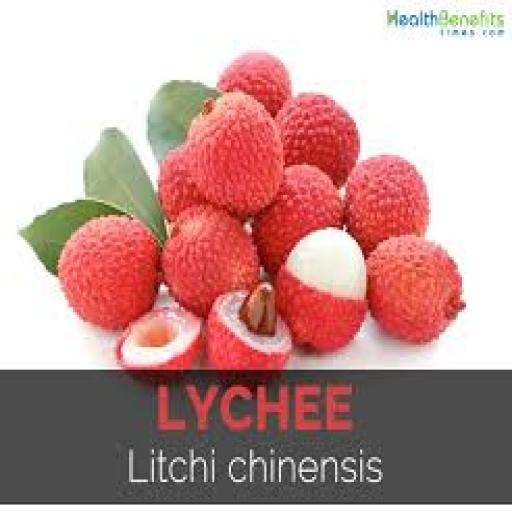lychee: (188, 93, 283, 217), (59, 215, 160, 329), (275, 228, 366, 352), (163, 205, 260, 317), (369, 235, 464, 344), (254, 165, 343, 274), (346, 155, 428, 254), (277, 93, 360, 187), (207, 283, 291, 372), (117, 303, 201, 369), (219, 53, 291, 117), (159, 145, 206, 222)
